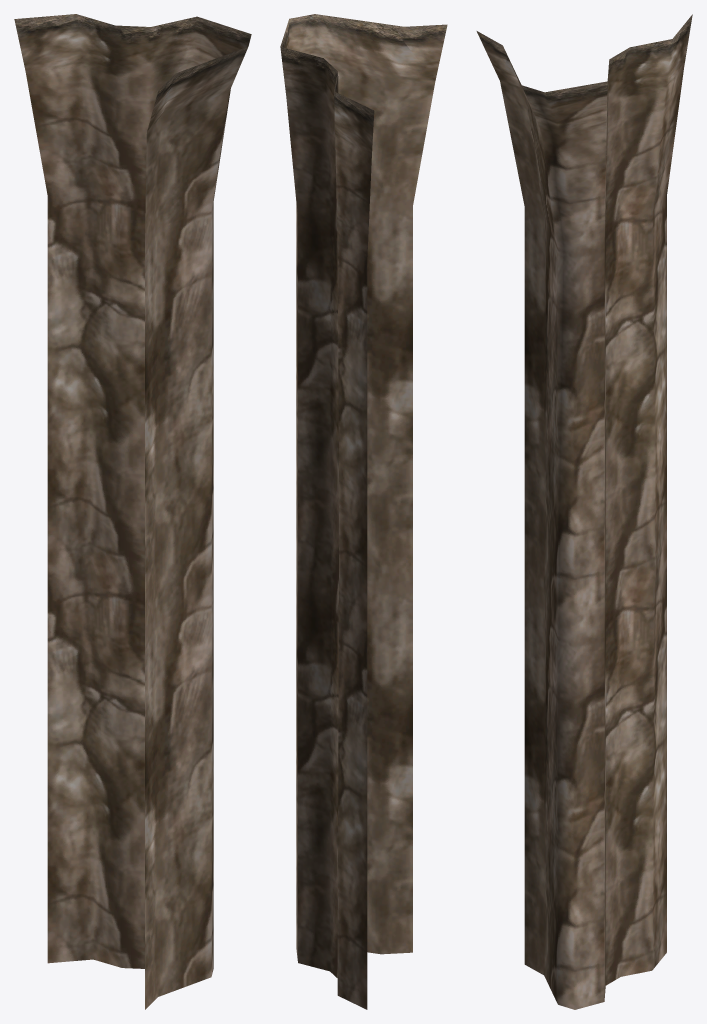
File: OVERHILL_A_01_LINE55.fbx
3 renders of one model, left to right at view 1: azimuth 30°, elevation 25°; view 2: azimuth 150°, elevation 25°; view 3: azimuth 270°, elevation 25°, orthographic. The views are drawn at different scales.
Parts seen in each view (by area): view 1: OVERHILL_A_01_LINE55; view 2: OVERHILL_A_01_LINE55; view 3: OVERHILL_A_01_LINE55.
Boxes of the visible parts, left/top/right/bottom form: OVERHILL_A_01_LINE55: left=14, top=14, right=251, bottom=1009; OVERHILL_A_01_LINE55: left=280, top=14, right=447, bottom=1009; OVERHILL_A_01_LINE55: left=476, top=14, right=692, bottom=1009.
Bounding box in the file's own units: 22631 × 125057 × 26433.
2 materials, 2 textured.
